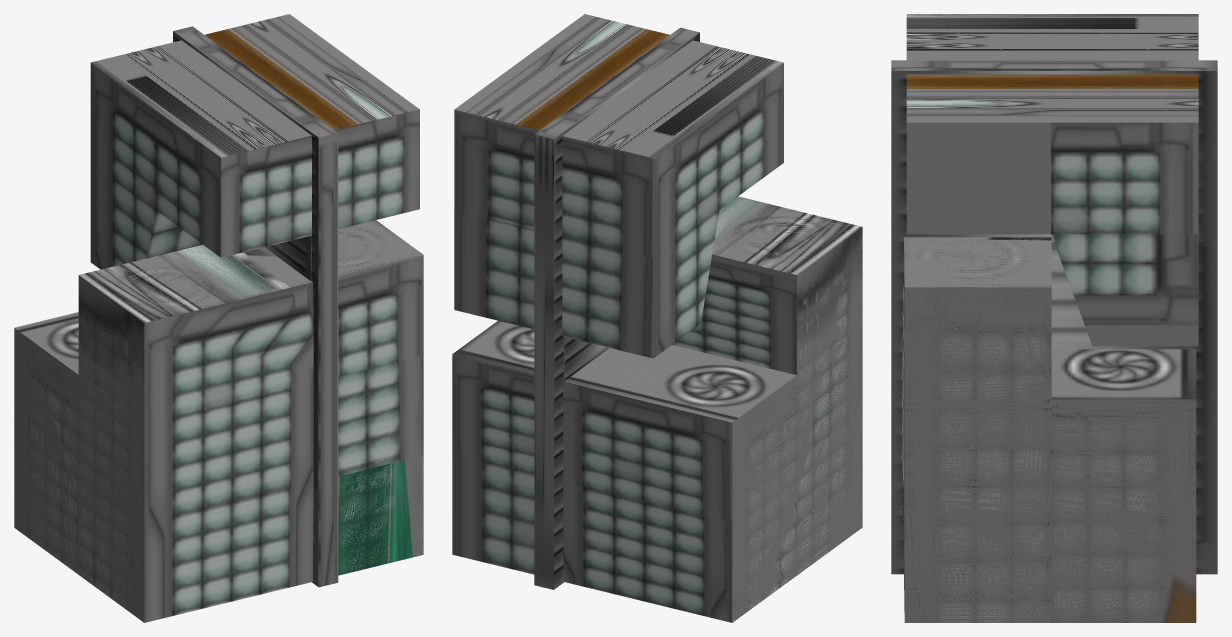
File: C.H.I.L.D. Building.fbx
The picture shows the model from 3 angles, left to right: view 1: azimuth 30°, elevation 25°; view 2: azimuth 150°, elevation 25°; view 3: azimuth 270°, elevation 25°; orthographic projection. The views are drawn at different scales.
Visible parts, largest first — view 1: Cube.002; view 2: Cube.002; view 3: Cube.002.
Part boxes in pixels (x1,y1,x2,y2): Cube.002: (14,14,423,622); Cube.002: (452,14,862,622); Cube.002: (891,14,1217,622).
Bounding box in the file's own units: 341 × 524 × 308.
Materials: 1 (1 with a texture image).
